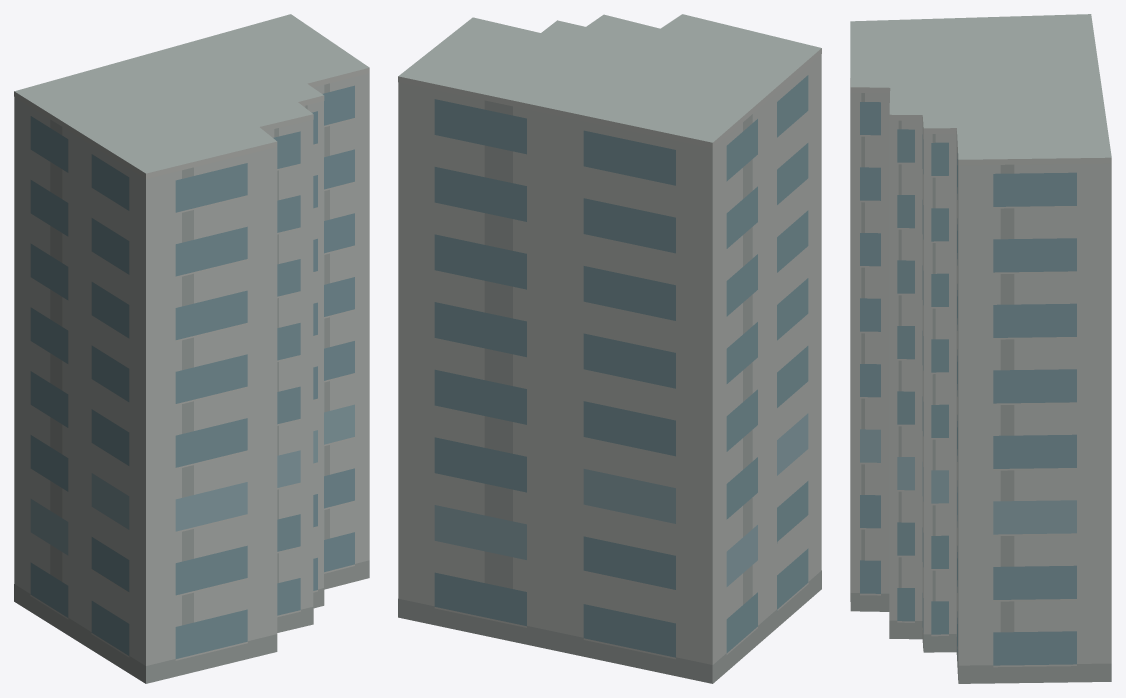
The model's file is survey-upis-32800511.glb.
3 renders of one model, left to right at view 1: azimuth 30°, elevation 25°; view 2: azimuth 150°, elevation 25°; view 3: azimuth 270°, elevation 25°, orthographic. The views are drawn at different scales.
Parts seen in each view (by area): view 1: survey-upis-32800511.tmp; view 2: survey-upis-32800511.tmp; view 3: survey-upis-32800511.tmp.
Boxes of the visible parts, bbox=[...] form: survey-upis-32800511.tmp: bbox=[14, 14, 369, 683]; survey-upis-32800511.tmp: bbox=[398, 14, 821, 683]; survey-upis-32800511.tmp: bbox=[850, 14, 1111, 683].
Size of the model in its own units: 13.49 by 22.6 by 10.23.
